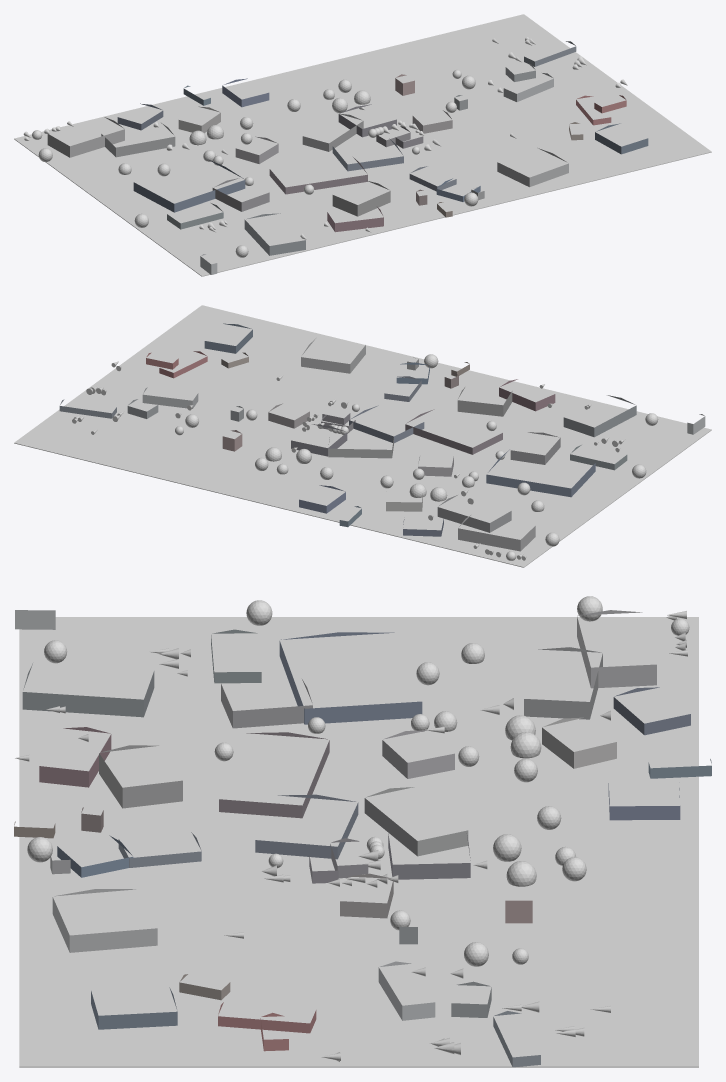
The model's file is scene_de38d1ba-aebf-4593-b184-f6367c7a4f56.glb.
3 views of the same model, one above another, from view 1: azimuth 30°, elevation 25°; view 2: azimuth 150°, elevation 25°; view 3: azimuth 270°, elevation 25° (orthographic). The views are drawn at different scales.
Parts seen in each view (by area): view 1: Ground_Base, BLD-001, BLD-004, BLD-002, BLD-007, BLD-011, BLD-006, BLD-005, BLD-010, BLD-008, BLD-003, BLD-023 (+5 smaller); view 2: Ground_Base, BLD-001, BLD-004, BLD-005, BLD-011, BLD-006, BLD-002, BLD-007, BLD-008, BLD-010, BLD-003, BLD-023 (+4 smaller); view 3: Ground_Base, BLD-001, BLD-005, BLD-002, BLD-007, BLD-004, BLD-008, BLD-006, BLD-011, BLD-010, BLD-003, BLD-020 (+14 smaller).
Part boxes in pixels (x1,y1,x2,y2): Ground_Base: (14, 14, 711, 276); BLD-001: (133, 159, 245, 212); BLD-004: (47, 117, 124, 157); BLD-002: (497, 148, 568, 187); BLD-007: (332, 181, 390, 216); BLD-011: (101, 123, 175, 157); BLD-006: (269, 157, 367, 194); BLD-005: (244, 213, 305, 255); BLD-010: (212, 178, 269, 211); BLD-008: (302, 113, 363, 151); BLD-003: (332, 138, 403, 171); BLD-023: (327, 207, 383, 232); Ground_Base: (14, 305, 711, 567); BLD-001: (486, 449, 595, 497); BLD-004: (458, 515, 535, 551); BLD-005: (563, 395, 636, 437); BLD-011: (437, 495, 511, 532); BLD-006: (405, 409, 502, 454); BLD-002: (301, 338, 365, 373); BLD-007: (457, 387, 512, 416); BLD-008: (328, 437, 393, 458); BLD-010: (510, 432, 560, 464); BLD-003: (349, 405, 424, 443); BLD-023: (499, 379, 555, 411); Ground_Base: (19, 617, 698, 1067); BLD-001: (279, 632, 422, 724); BLD-005: (22, 663, 154, 717); BLD-002: (52, 889, 157, 952); BLD-007: (99, 745, 182, 808); BLD-004: (577, 610, 656, 688); BLD-008: (364, 787, 468, 856); BLD-006: (219, 732, 329, 818); BLD-011: (524, 647, 602, 719); BLD-010: (221, 679, 312, 728); BLD-003: (255, 794, 358, 859); BLD-020: (542, 717, 616, 768).
Bounding box in the file's own units: 342 × 12.45 × 222.
